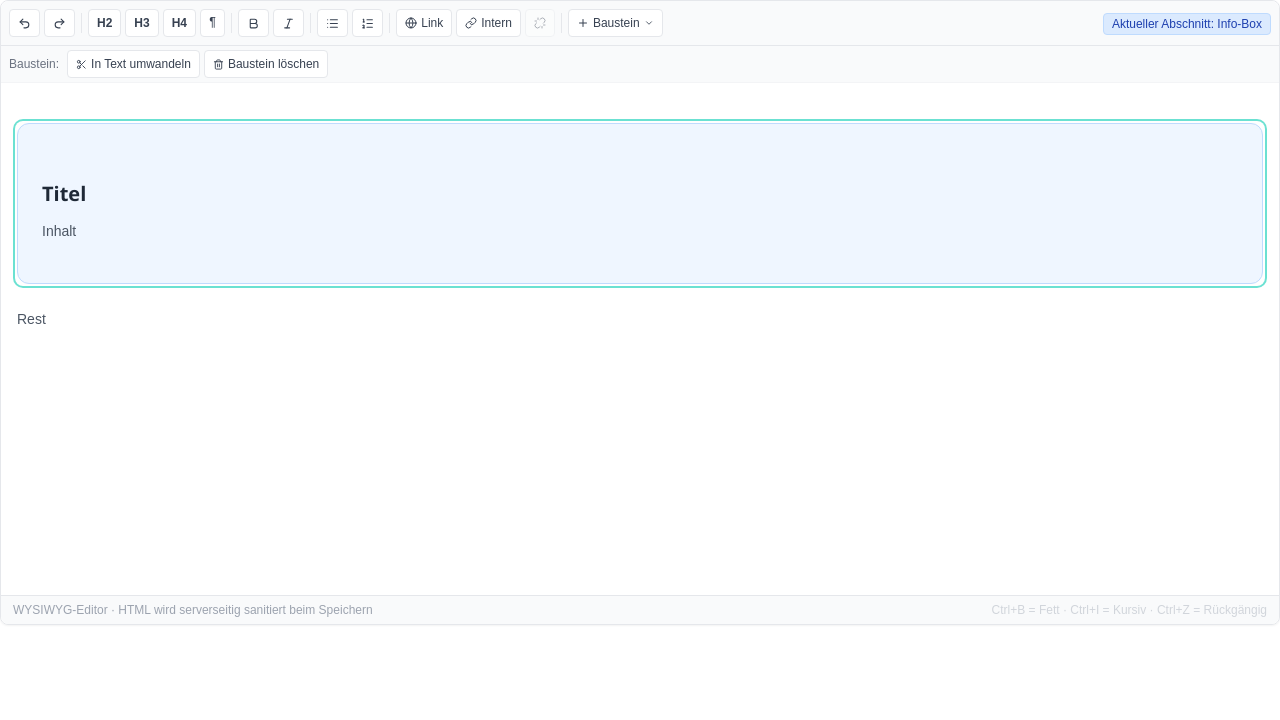
1 – Bestätigung erscheint statt eines nativen Dialogs › die Rückfrage ist als alertdialog zugänglich und programmatisch beschriftet
This screenshot has width=1280, height=720.
Press the mouse on the button with test id "btn-delete-block" at (266, 64), box left=204, top=50, right=328, bottom=78
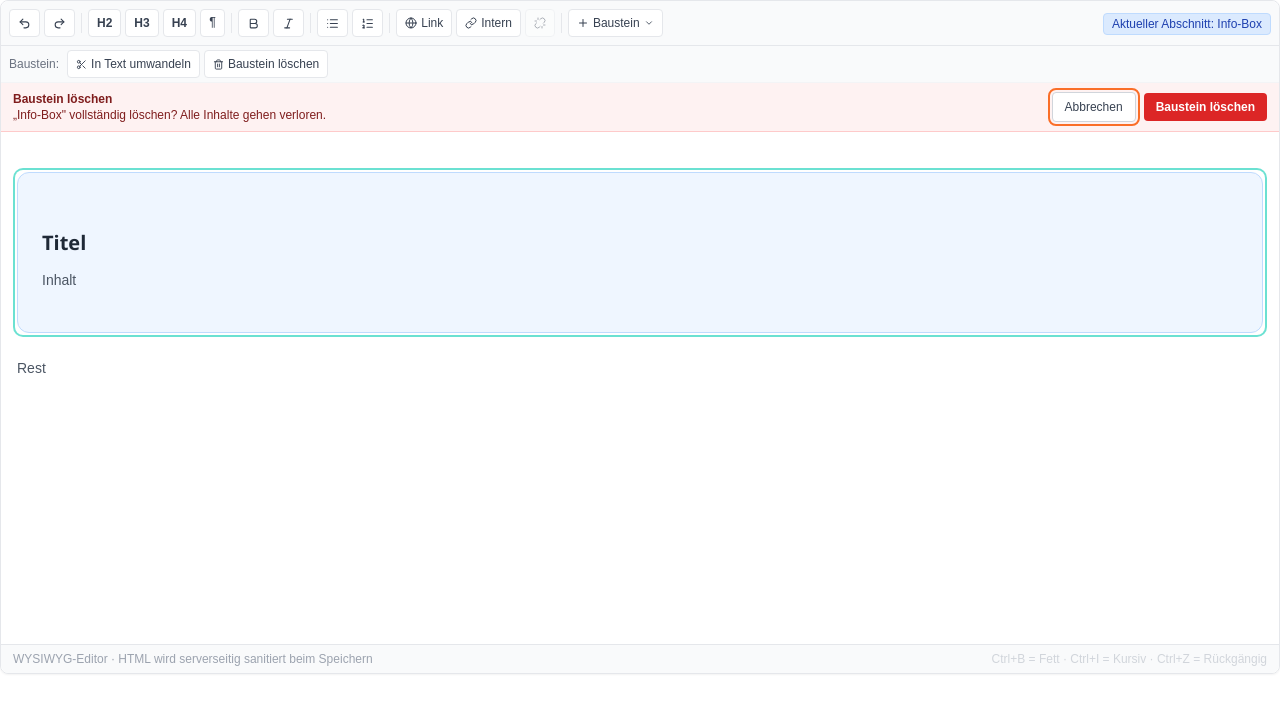
Now the text with test id "block-confirm-title" reads "Baustein löschen", box left=13, top=92, right=112, bottom=106
